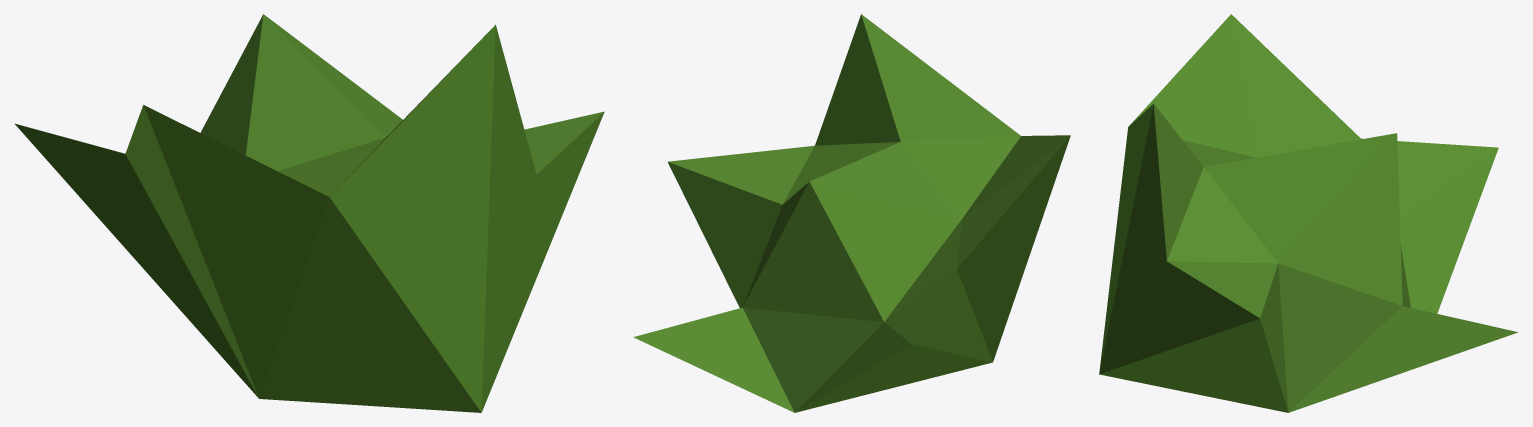
The model's file is BushAutumn1_Alt2.fbx.
3 renders of one model, left to right at view 1: azimuth 30°, elevation 25°; view 2: azimuth 150°, elevation 25°; view 3: azimuth 270°, elevation 25°, orthographic. The views are drawn at different scales.
Visible parts, largest first — view 1: BushAutumn1_Alt2; view 2: BushAutumn1_Alt2; view 3: BushAutumn1_Alt2.
Boxes of the visible parts, left/top/right/bottom form: BushAutumn1_Alt2: left=15, top=14, right=604, bottom=412; BushAutumn1_Alt2: left=633, top=14, right=1070, bottom=412; BushAutumn1_Alt2: left=1099, top=14, right=1518, bottom=412.
Size of the model in its own units: 0.6828 by 0.4811 by 0.6299.
